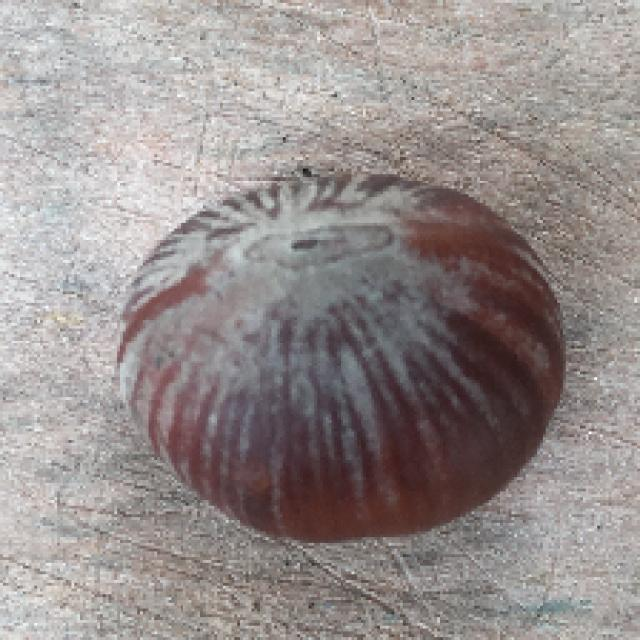qualityHazelnut: (119, 156, 561, 561)
